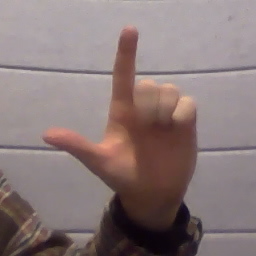L: (38, 22, 200, 196)
